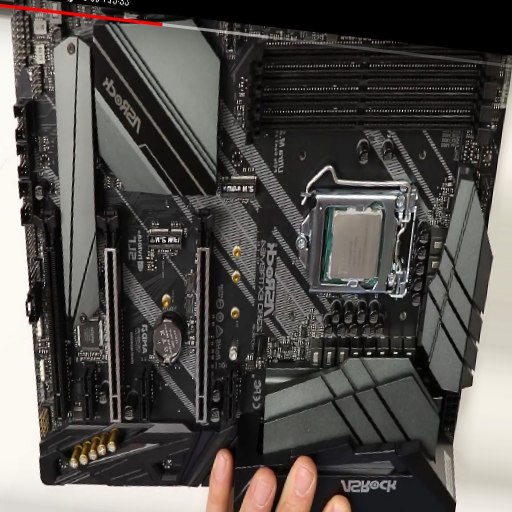CPU: (292, 191, 407, 296)
GPU: (96, 213, 130, 424), (189, 208, 218, 424)
MOTHERBOARD: (12, 6, 501, 510)
RAM: (243, 38, 496, 145)
SSD: (220, 173, 258, 200), (146, 224, 184, 251)
